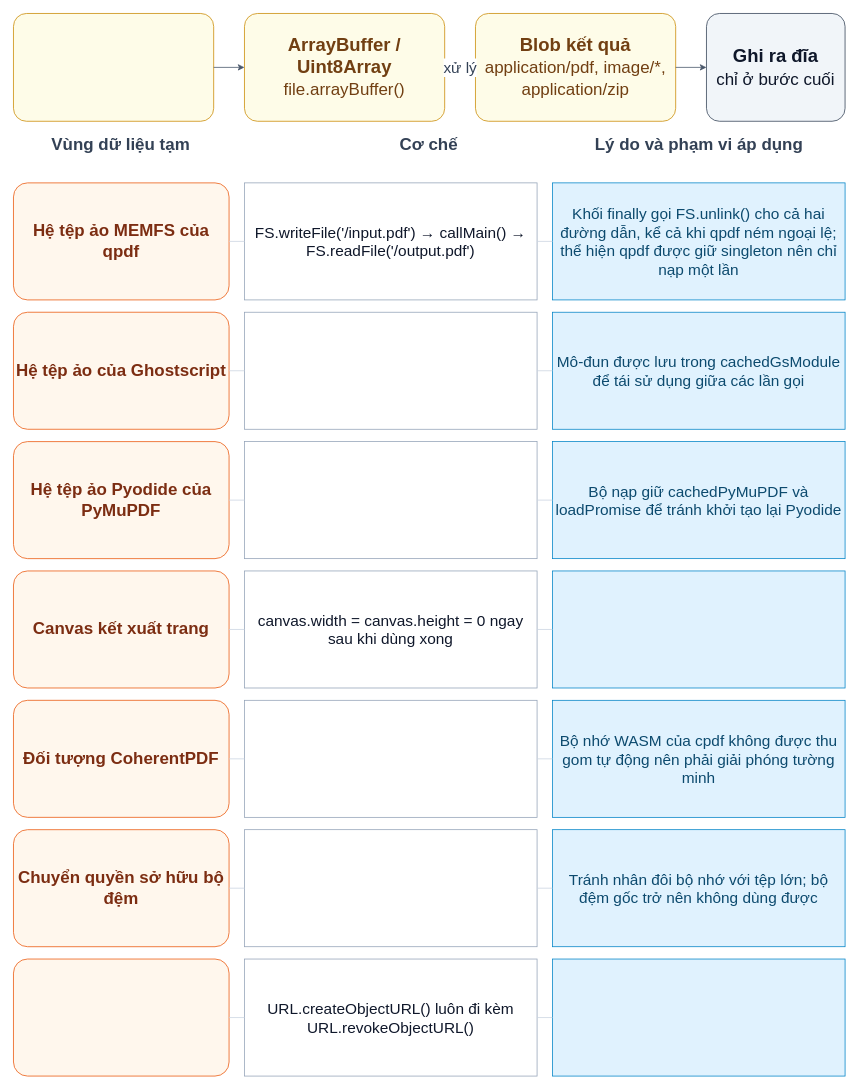
Some shapes in this 859 by 1090 pixel diagram are drawn without their labels. The centre of each missing label's shape, as x and y in pixels:
Blob được nạp trực tiếp vào Python; document.close() sau mỗi thao tác: the point at 390,500
coherentpdf.deletePdf() cho mọi tài liệu đã nạp trong merge.worker.js: the point at 390,758
cùng khuôn mẫu MEMFS cho chuyển PDF/A và chuyển phông thành đường nét: the point at 390,370
Dùng trong nhánh tải xuống của trình duyệt và khi xem trước tài liệu: the point at 698,1017
postMessage(message, [transferable]) khi gửi dữ liệu sang Web Worker: the point at 390,888
Tệp người dùng chọn đối tượng File của trình duyệt: the point at 113,67
Áp dụng trong OCR, nén Photon, PDF → ảnh, sinh ảnh thu nhỏ: the point at 698,629
Đối tượng URL tạm: the point at 121,1017
